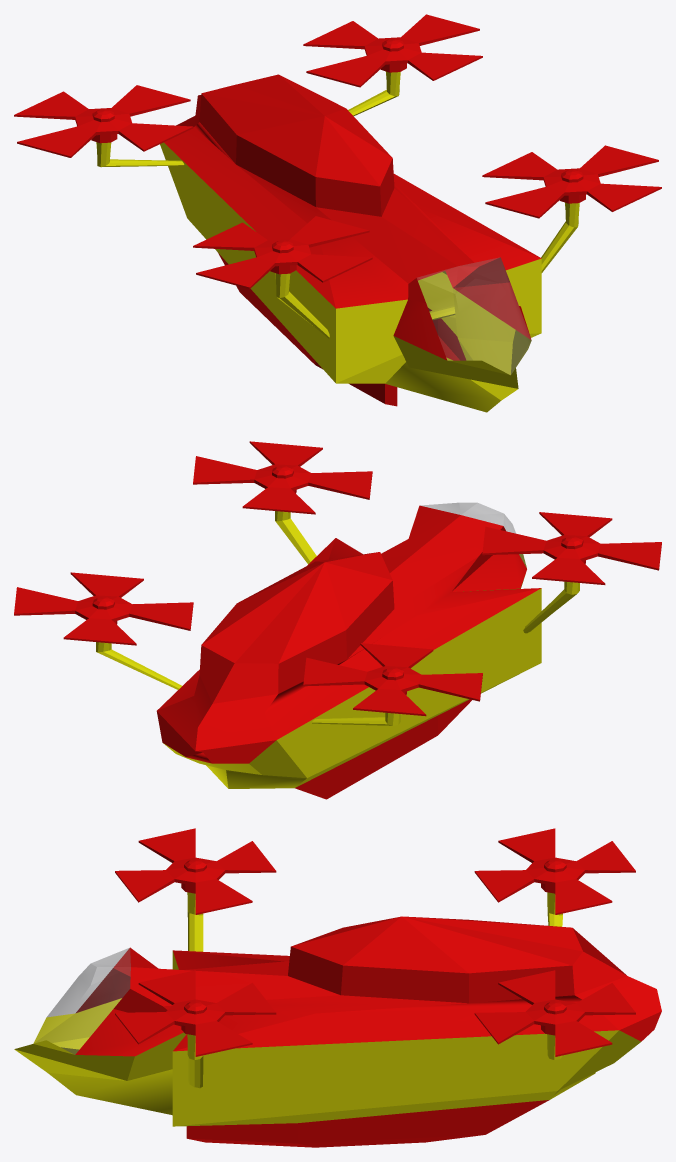
File: Helicopter.fbx
The picture shows the model from 3 angles, top to bottom: view 1: azimuth 30°, elevation 25°; view 2: azimuth 150°, elevation 25°; view 3: azimuth 270°, elevation 25°; orthographic projection.
Parts seen in each view (by area): view 1: Helicopter1; view 2: Helicopter1; view 3: Helicopter1.
Part boxes in pixels (<box>): Helicopter1: <box>14,14,661,412</box>; Helicopter1: <box>14,441,661,799</box>; Helicopter1: <box>14,828,661,1147</box>.
Size of the model in its own units: 89.6 by 39.29 by 108.
